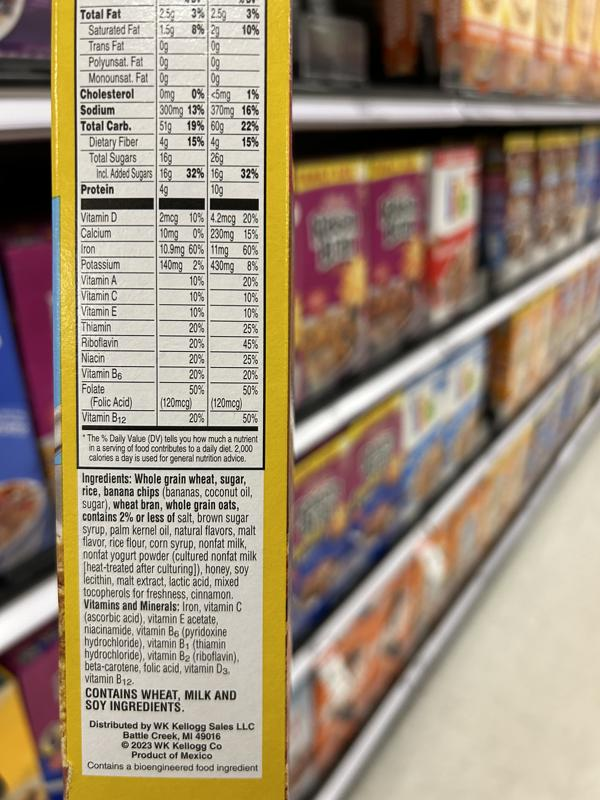ingredients: (80, 472, 259, 601)
